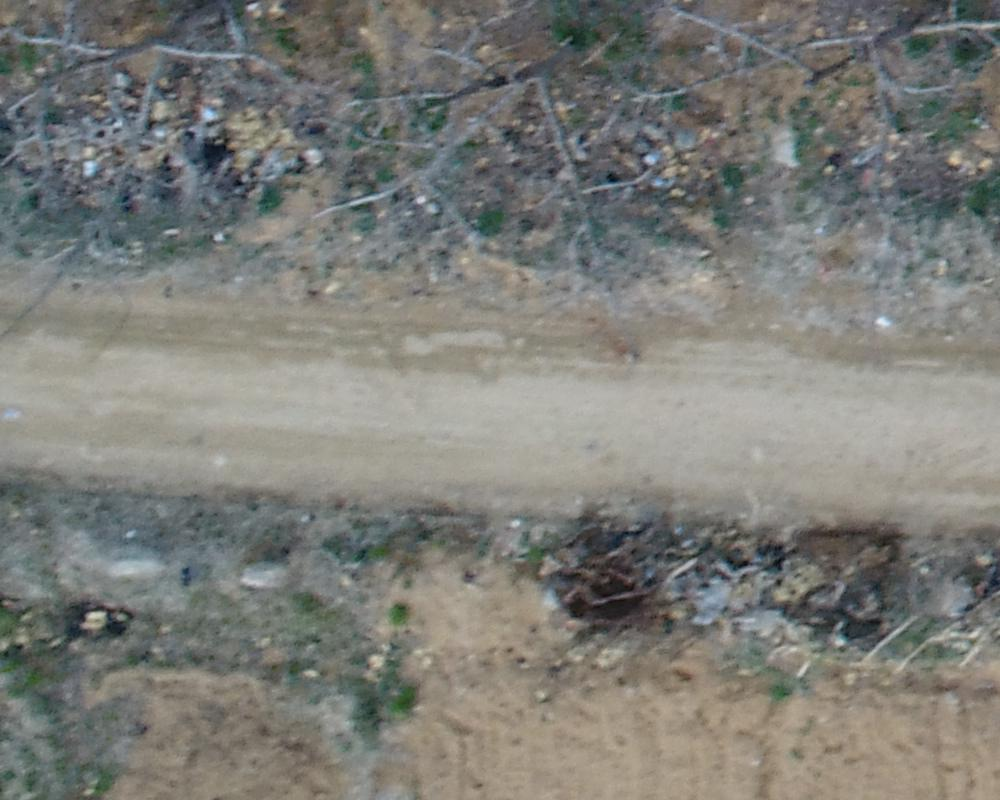apple: (296, 10, 701, 351), (10, 10, 297, 357), (607, 10, 990, 182)
